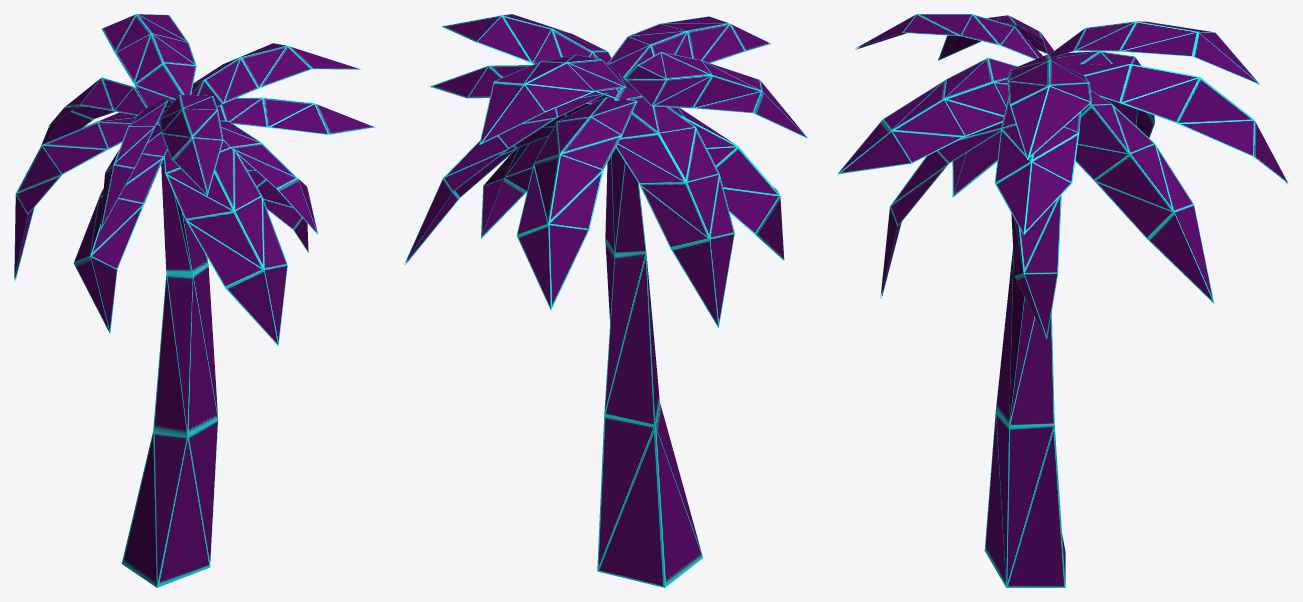
Rendered from palm.glb.
The picture shows the model from 3 angles, left to right: view 1: azimuth 30°, elevation 25°; view 2: azimuth 150°, elevation 25°; view 3: azimuth 270°, elevation 25°; orthographic projection. The views are drawn at different scales.
Parts seen in each view (by area): view 1: palm; view 2: palm; view 3: palm.
Part boxes in pixels (x1=…): palm: x1=14, y1=14, x2=375, y2=587; palm: x1=404, y1=14, x2=808, y2=587; palm: x1=837, y1=14, x2=1288, y2=587.
Size of what is drawn, in the model's own units: 3.39 by 5.07 by 3.67.
Materials: 1 (1 with a texture image).
